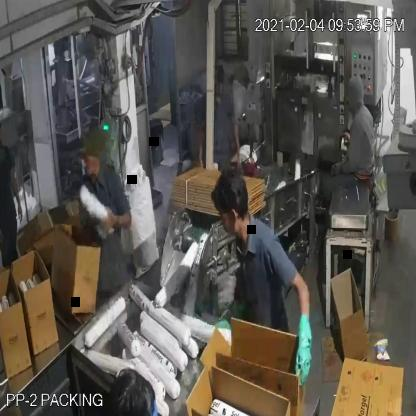glove: (285, 291, 318, 395)
no_glove: (92, 195, 135, 237), (231, 112, 252, 188), (194, 112, 210, 182)
